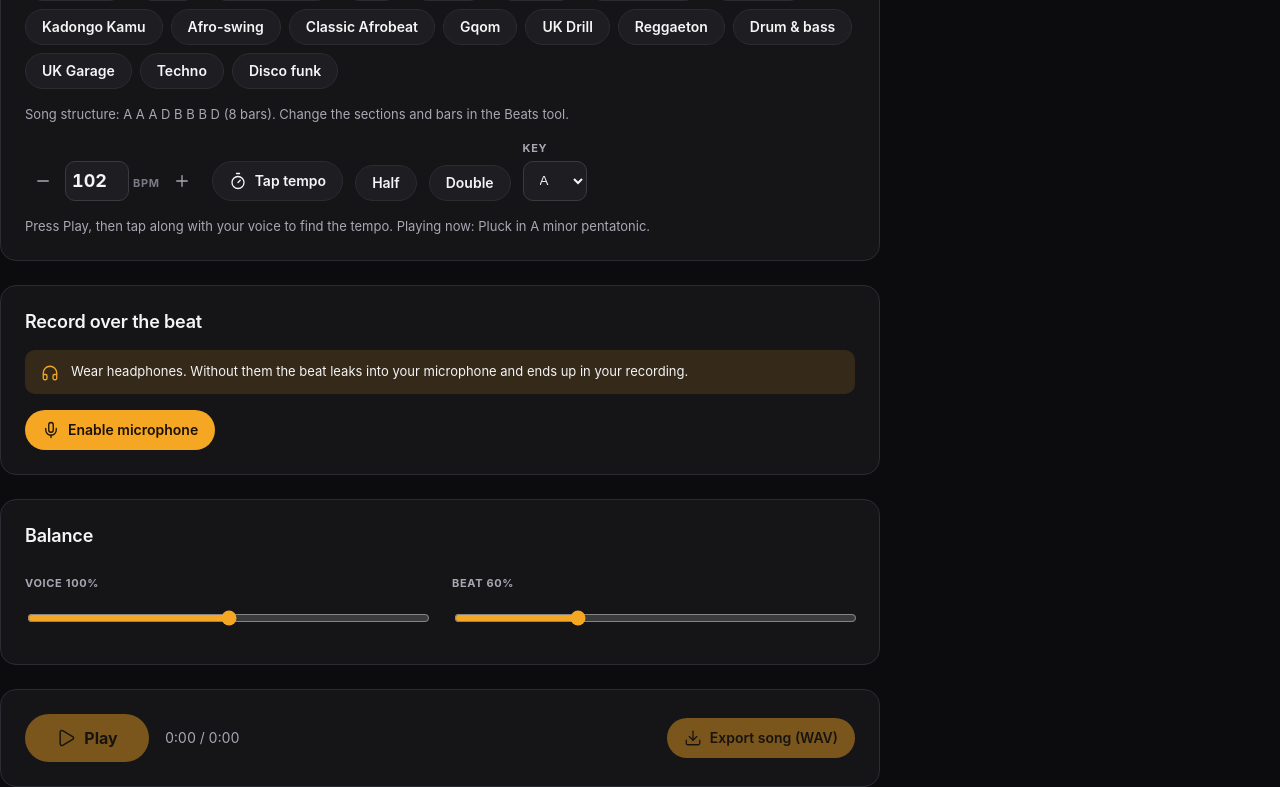
Record over the beat: setup › enabling shows the inputs, a live level meter and a count-in that is on by default
The width and height of the screenshot is (1280, 787).
(page scrolled)
Click the button "Enable microphone".
click(120, 430)  # box [25, 410, 215, 450]
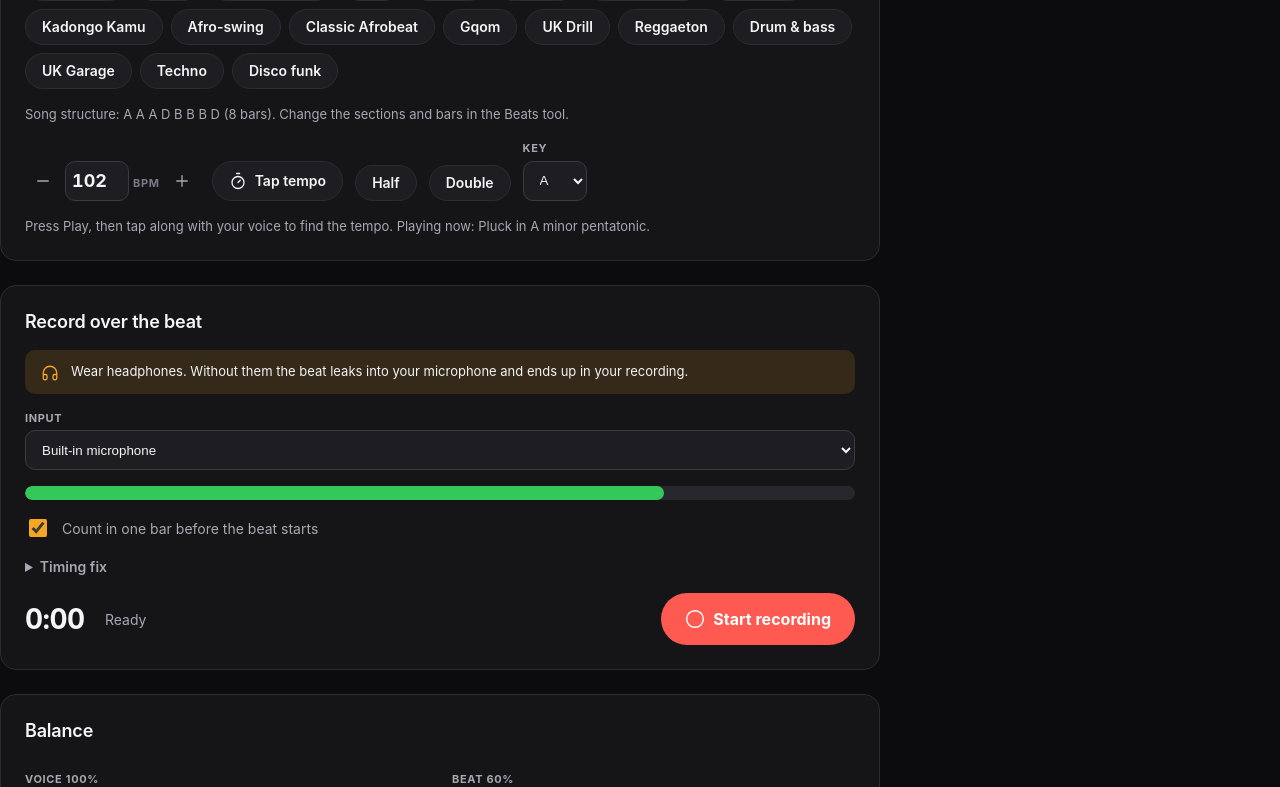
Check: the dropdown labelled "Input" is shown, box [25, 430, 855, 470]
Check: the button "Start recording" is enabled, box [661, 593, 855, 645]
Check: the checkbox labelled "Count in one bar before the beat starts" is checked, box [29, 519, 47, 537]
